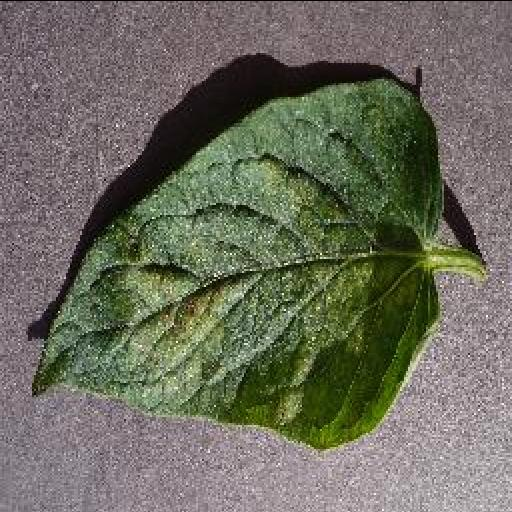disease_tomato: (25, 76, 447, 446)
